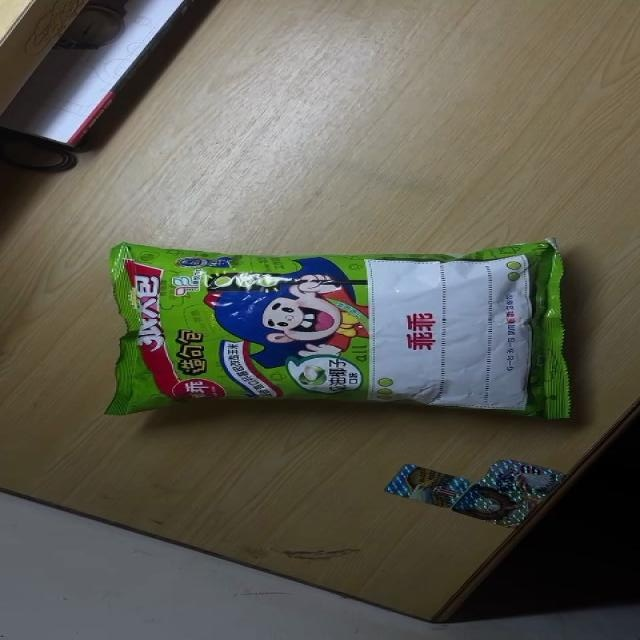Good-Luck: (102, 238, 570, 420)
